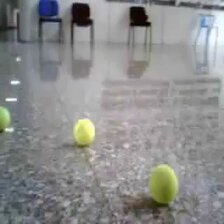tennis: (148, 164, 177, 204), (73, 119, 96, 146), (1, 105, 12, 132)
